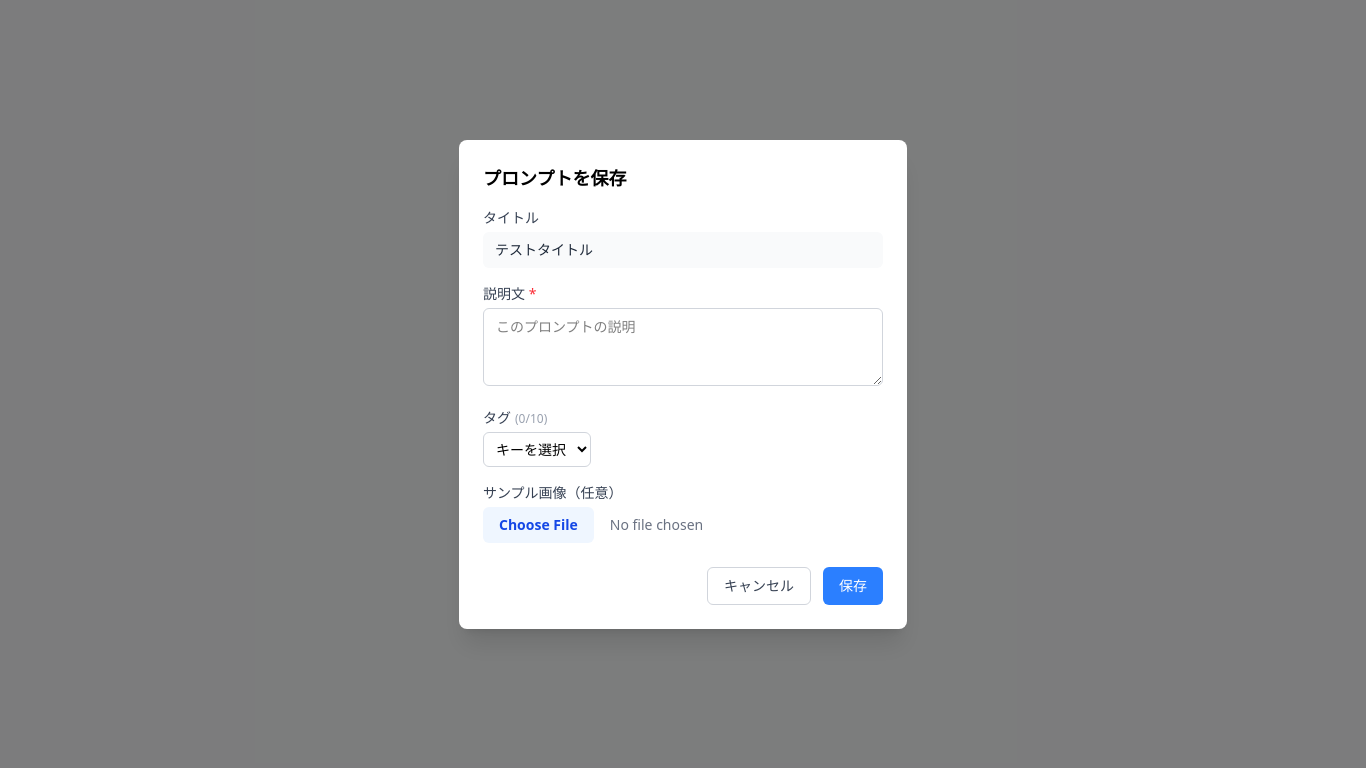
SaveDialog › 説明文なしで保存するとエラーが表示される
The width and height of the screenshot is (1366, 768).
Click the button "保存": [853, 586] box [823,566,883,604]
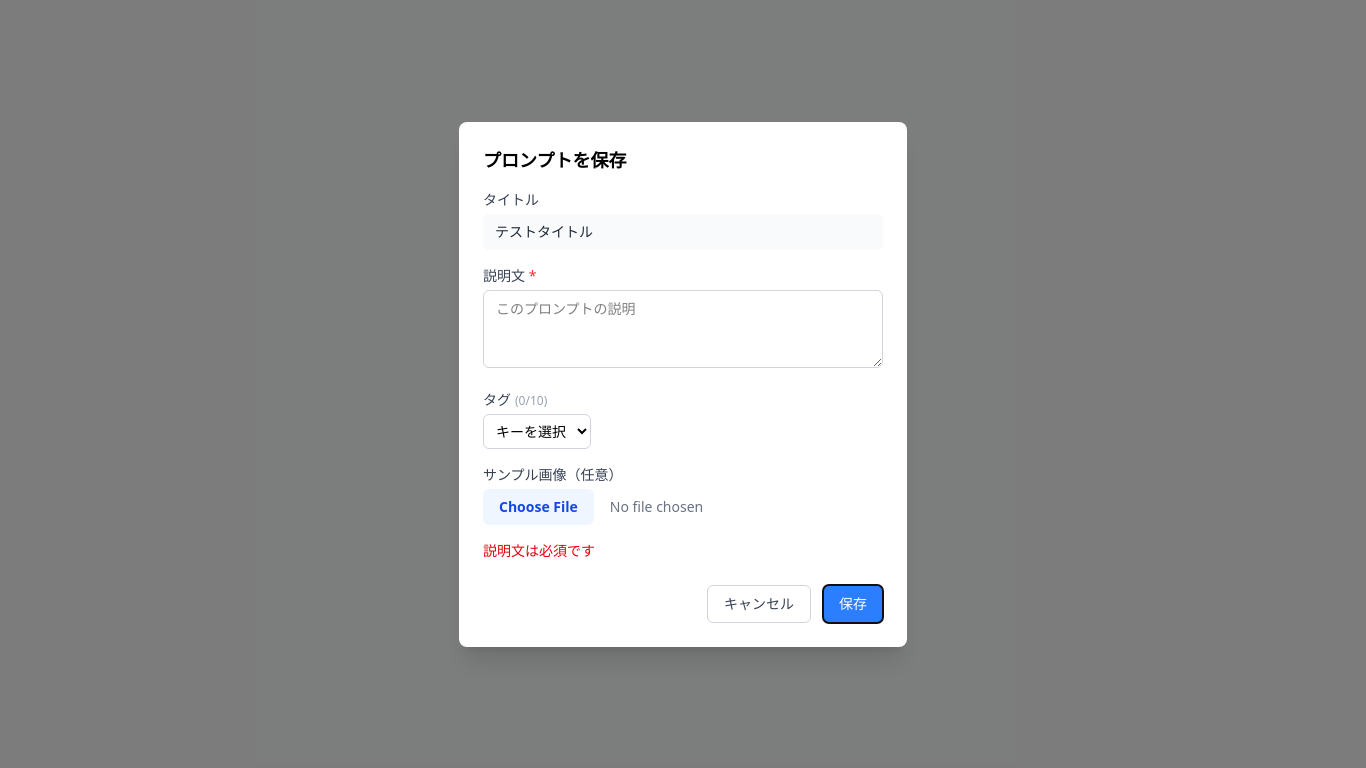
Now the text with test id "save-error" reads "説明文は必須です", box [483,540,595,560]
